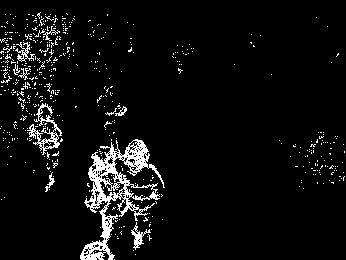person: (124, 138, 178, 249), (90, 144, 129, 243), (28, 101, 65, 195)
